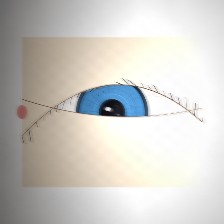pinguecula_lesion: (30, 105, 66, 133)
